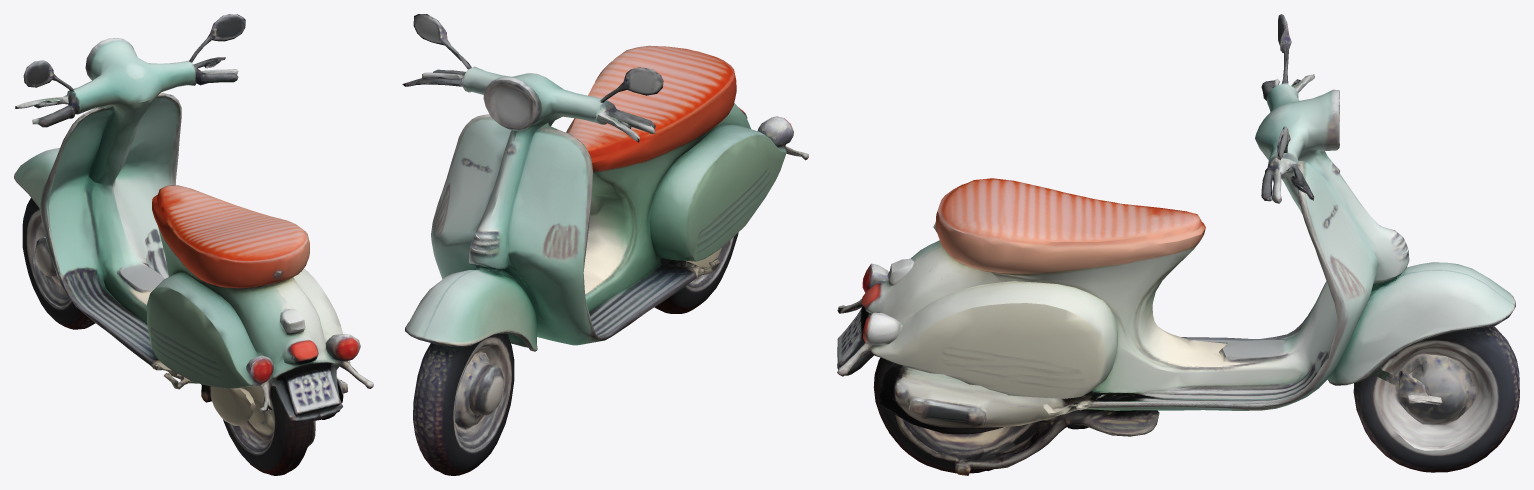
File: scotty.12gvepab_2khf.glb
The picture shows the model from 3 angles, left to right: view 1: azimuth 30°, elevation 25°; view 2: azimuth 150°, elevation 25°; view 3: azimuth 270°, elevation 25°; orthographic projection. The views are drawn at different scales.
Parts seen in each view (by area): view 1: world_0; view 2: world_0; view 3: world_0.
Part boxes in pixels (<box>): world_0: <box>14,14,373,475</box>; world_0: <box>402,14,808,475</box>; world_0: <box>837,14,1519,475</box>.
Size of the model in its own units: 0.4473 by 0.6467 by 1.
1 material, 1 textured.
